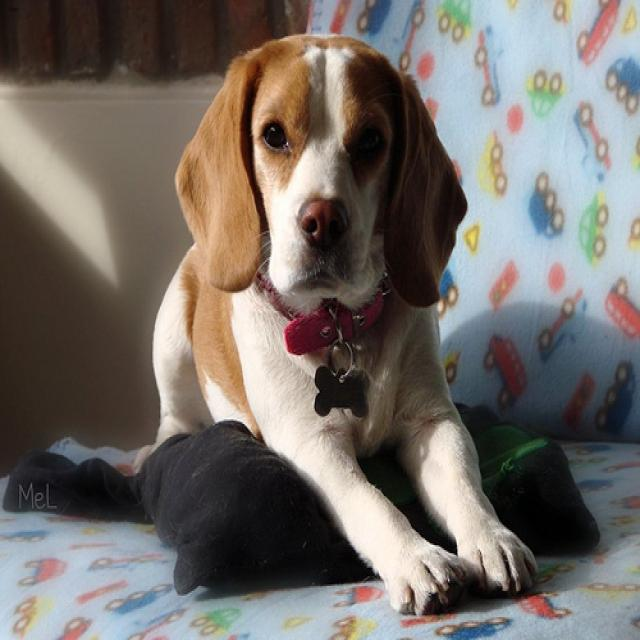dog-beagle: (119, 26, 548, 624)
